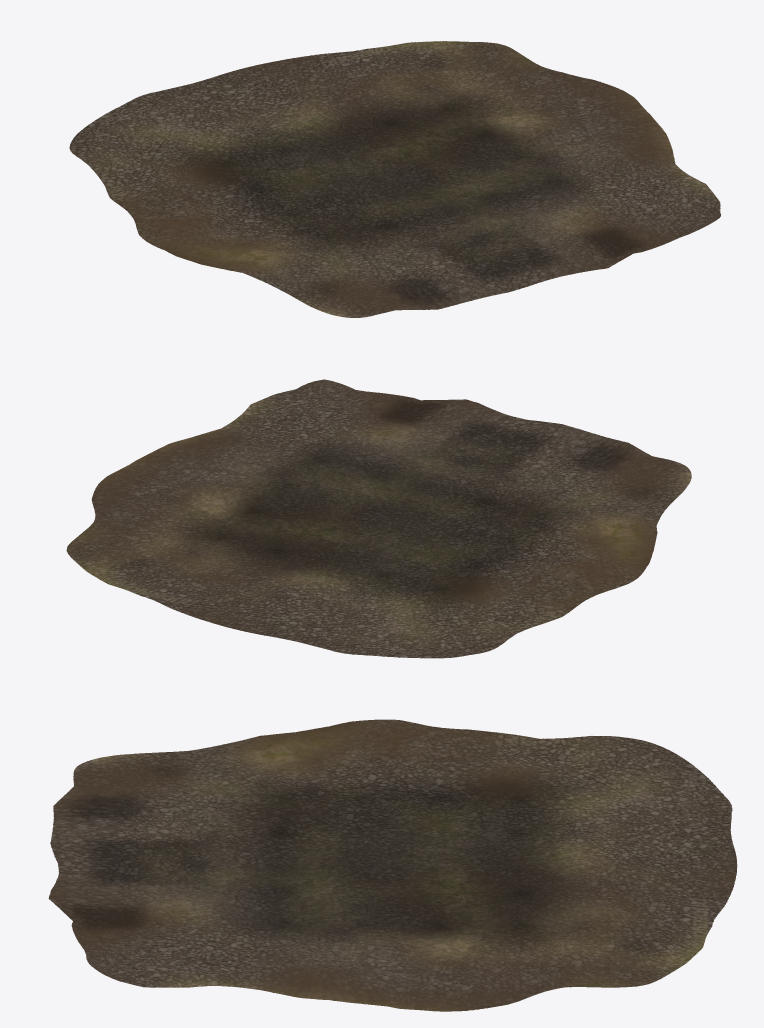
Rendered from ground.fbx.
3 renders of one model, top to bottom at view 1: azimuth 30°, elevation 25°; view 2: azimuth 150°, elevation 25°; view 3: azimuth 270°, elevation 25°, orthographic. The views are drawn at different scales.
Parts seen in each view (by area): view 1: ground; view 2: ground; view 3: ground.
Boxes of the visible parts, bbox=[...] form: ground: bbox=[69, 41, 720, 317]; ground: bbox=[66, 379, 691, 658]; ground: bbox=[48, 719, 737, 1011].
Bounding box in the file's own units: 2318 × 55.34 × 2385.
